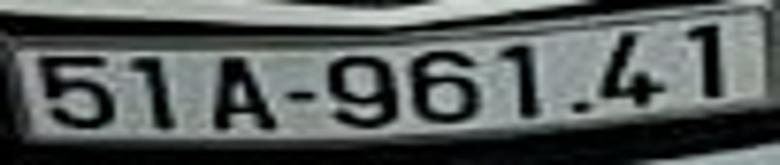-: (286, 90, 316, 101)
.: (572, 104, 588, 113)
1: (129, 54, 177, 135), (686, 24, 724, 102), (501, 45, 540, 118)
4: (602, 29, 664, 109)
5: (38, 55, 115, 130)
6: (411, 52, 479, 123)
9: (329, 55, 397, 127)
A: (211, 56, 277, 130)
